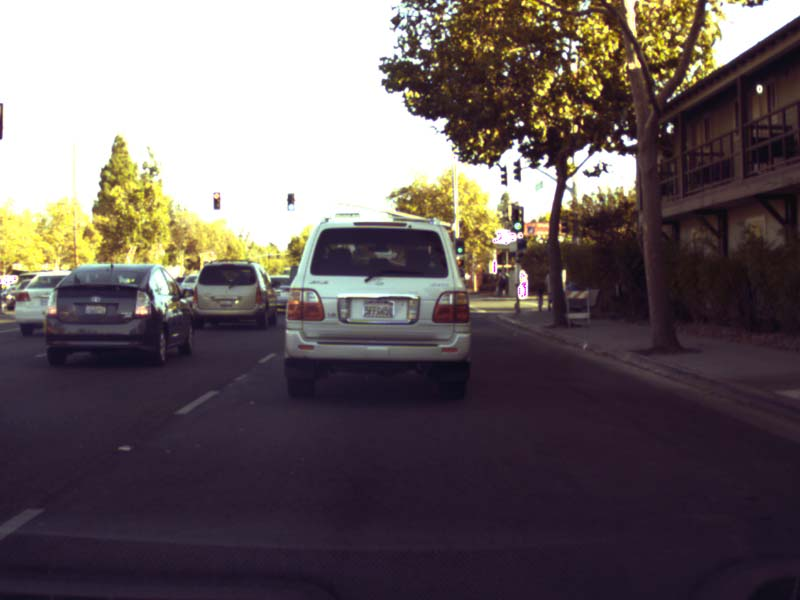Green: (511, 206, 523, 233), (454, 236, 465, 255), (286, 192, 295, 211)
Red: (213, 191, 221, 211)
